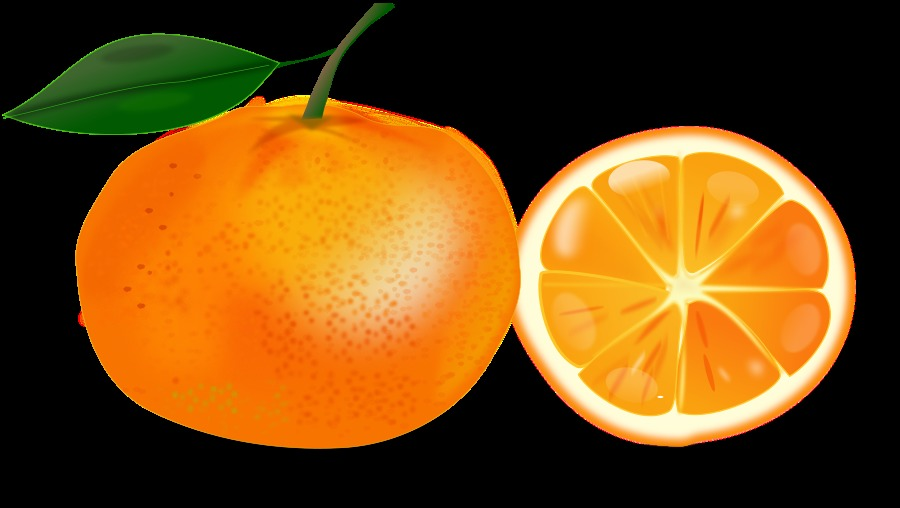orange: (75, 96, 531, 465)
